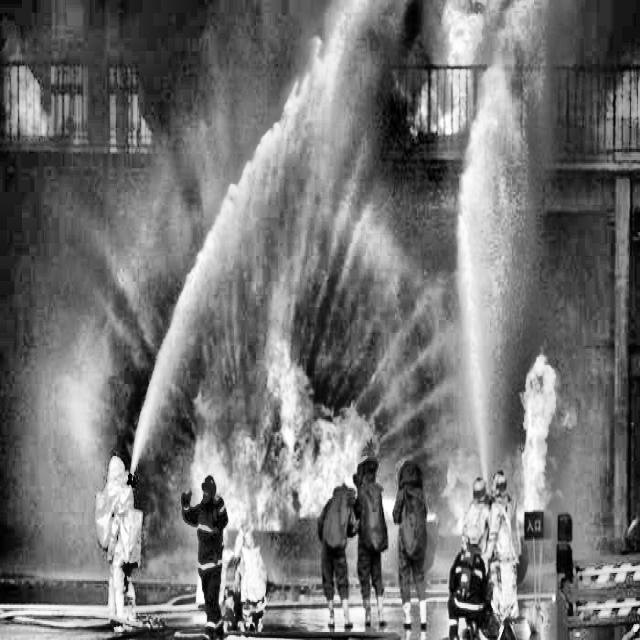fire: (169, 354, 366, 544)
